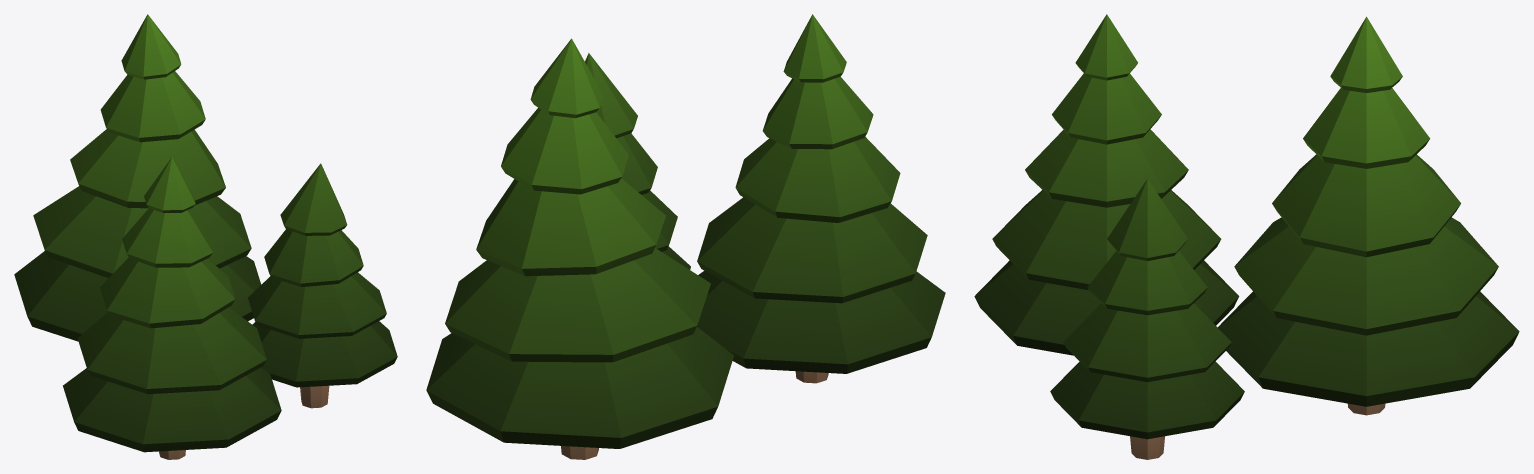
File: TreeTerrain.fbx
3 views of the same model, side by side, from view 1: azimuth 30°, elevation 25°; view 2: azimuth 150°, elevation 25°; view 3: azimuth 270°, elevation 25° (orthographic). The views are drawn at different scales.
Parts seen in each view (by area): view 1: TreesTerrain; view 2: TreesTerrain; view 3: TreesTerrain.
Boxes of the visible parts, x1=… form: TreesTerrain: x1=14, y1=14, x2=397, y2=459; TreesTerrain: x1=426, y1=14, x2=945, y2=459; TreesTerrain: x1=974, y1=14, x2=1519, y2=459.
Size of the model in its own units: 4.27 by 4.14 by 5.18.
1 material, 1 textured.
